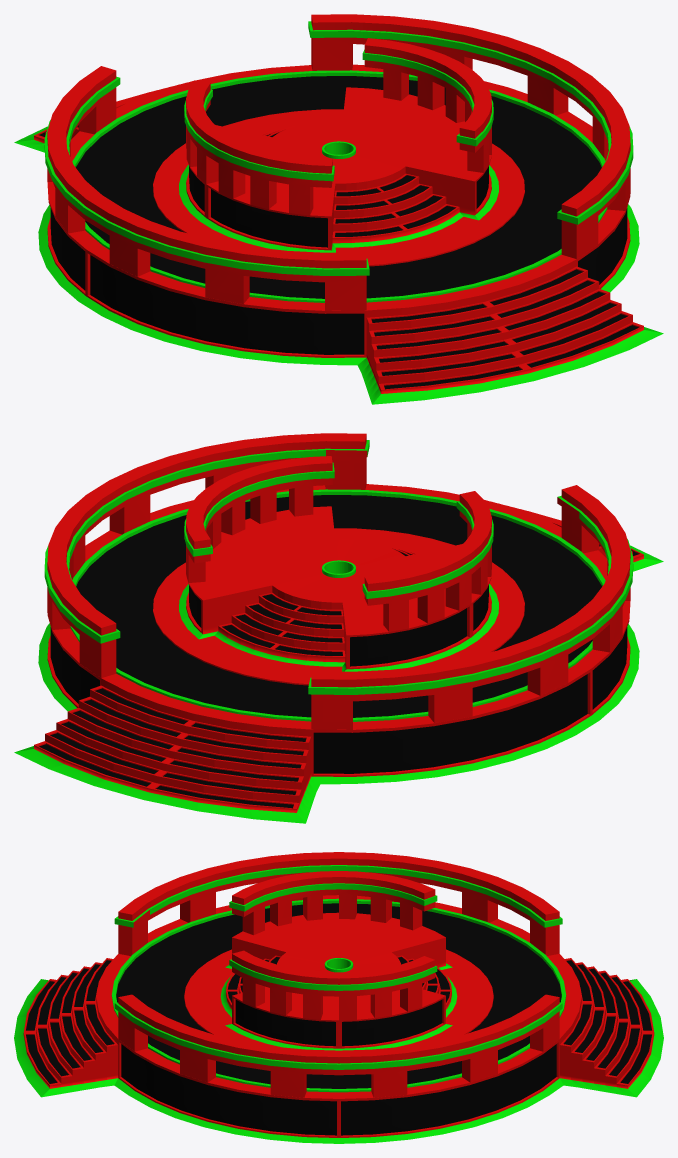
File: SM_altar_stand.fbx
The picture shows the model from 3 angles, top to bottom: view 1: azimuth 30°, elevation 25°; view 2: azimuth 150°, elevation 25°; view 3: azimuth 270°, elevation 25°; orthographic projection. The views are drawn at different scales.
Parts seen in each view (by area): view 1: polySurface10, polySurface13; view 2: polySurface10, polySurface13; view 3: polySurface10, polySurface13.
Boxes of the visible parts, box(x1,y1,x2,y2) form: polySurface10: box(14, 64, 663, 404); polySurface13: box(44, 14, 633, 310); polySurface10: box(14, 484, 663, 823); polySurface13: box(44, 433, 633, 729); polySurface10: box(14, 895, 663, 1143); polySurface13: box(114, 852, 562, 1097).
Size of the model in its own units: 760 by 190 by 987.
